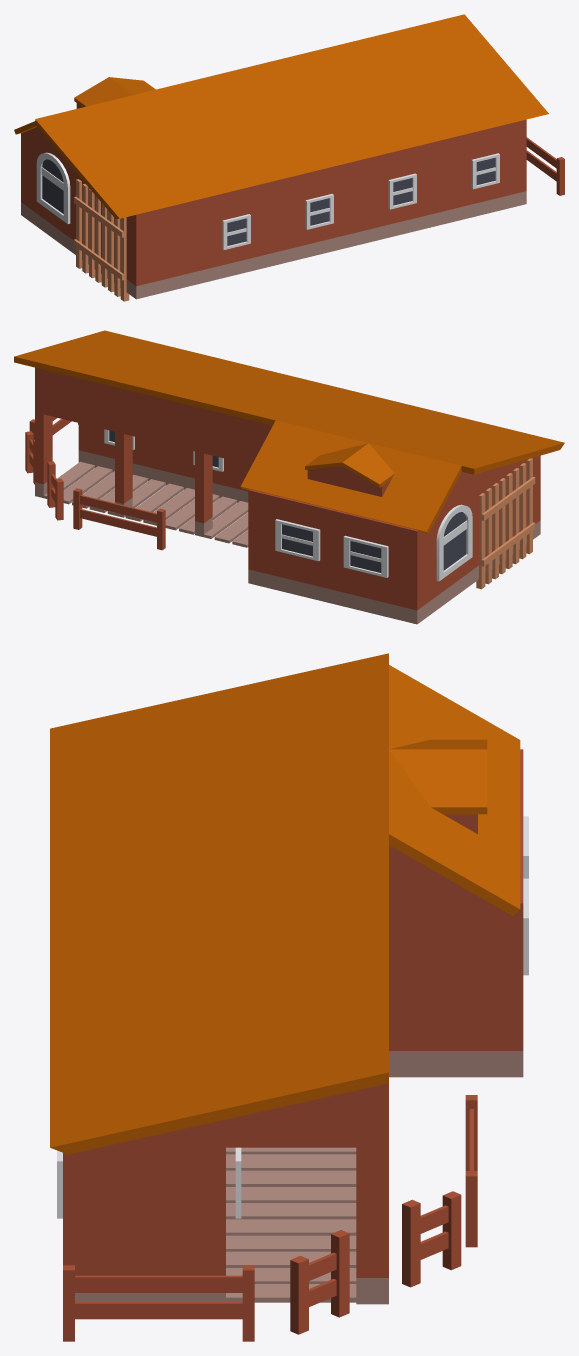
Rendered from Maison2.fbx.
The picture shows the model from 3 angles, top to bottom: view 1: azimuth 30°, elevation 25°; view 2: azimuth 150°, elevation 25°; view 3: azimuth 270°, elevation 25°; orthographic projection. The views are drawn at different scales.
Visible parts, largest first — view 1: roof_half_467, block_459, block_columns_457, block_columns_458, block_columns_456, door_gate_475, window_rounded_474, roof_half_extra_468, fence_wood_455, window_470, window_473, window_471 (+1 smaller); view 2: roof_half_467, block_459, roof_half_extra_468, block_columns_456, block_columns_457, door_gate_475, window_double_469, planks_floor_462, planks_floor_461, fence_wood_453, window_rounded_474, block_columns_458 (+2 smaller); view 3: roof_half_467, block_columns_456, roof_half_extra_468, block_459, planks_floor_462, fence_wood_455, fence_woodGate_460, planks_floor_461, fence_wood_453, window_double_469.
Part boxes in pixels (bbox=[...]): roof_half_467: bbox=[35, 14, 548, 218]; block_459: bbox=[21, 132, 293, 299]; block_columns_457: bbox=[368, 138, 451, 242]; block_columns_458: bbox=[294, 158, 376, 260]; block_columns_456: bbox=[452, 119, 526, 222]; door_gate_475: bbox=[74, 179, 129, 301]; window_rounded_474: bbox=[36, 152, 70, 223]; roof_half_extra_468: bbox=[14, 77, 155, 152]; fence_wood_455: bbox=[526, 137, 564, 195]; window_470: bbox=[388, 173, 416, 209]; window_473: bbox=[222, 214, 250, 249]; window_471: bbox=[471, 153, 499, 189]; roof_half_467: bbox=[14, 330, 564, 504]; block_459: bbox=[248, 455, 540, 624]; roof_half_extra_468: bbox=[240, 420, 461, 533]; block_columns_456: bbox=[35, 403, 167, 517]; block_columns_457: bbox=[115, 422, 247, 537]; door_gate_475: bbox=[476, 458, 535, 589]; window_double_469: bbox=[275, 519, 388, 577]; planks_floor_462: bbox=[125, 483, 248, 538]; planks_floor_461: bbox=[36, 461, 165, 516]; fence_wood_453: bbox=[73, 488, 165, 550]; window_rounded_474: bbox=[436, 504, 472, 581]; block_columns_458: bbox=[195, 444, 255, 533]; roof_half_467: bbox=[50, 653, 388, 1154]; block_columns_456: bbox=[63, 1130, 388, 1304]; roof_half_extra_468: bbox=[389, 665, 520, 915]; block_459: bbox=[389, 749, 523, 1077]; planks_floor_462: bbox=[226, 1147, 356, 1219]; fence_wood_455: bbox=[63, 1265, 254, 1341]; fence_woodGate_460: bbox=[290, 1191, 461, 1334]; planks_floor_461: bbox=[226, 1219, 356, 1302]; fence_wood_453: bbox=[465, 1095, 477, 1247]; window_double_469: bbox=[523, 816, 528, 975].
Bounding box in the file's own units: 53.98 × 15.43 × 24.97.
